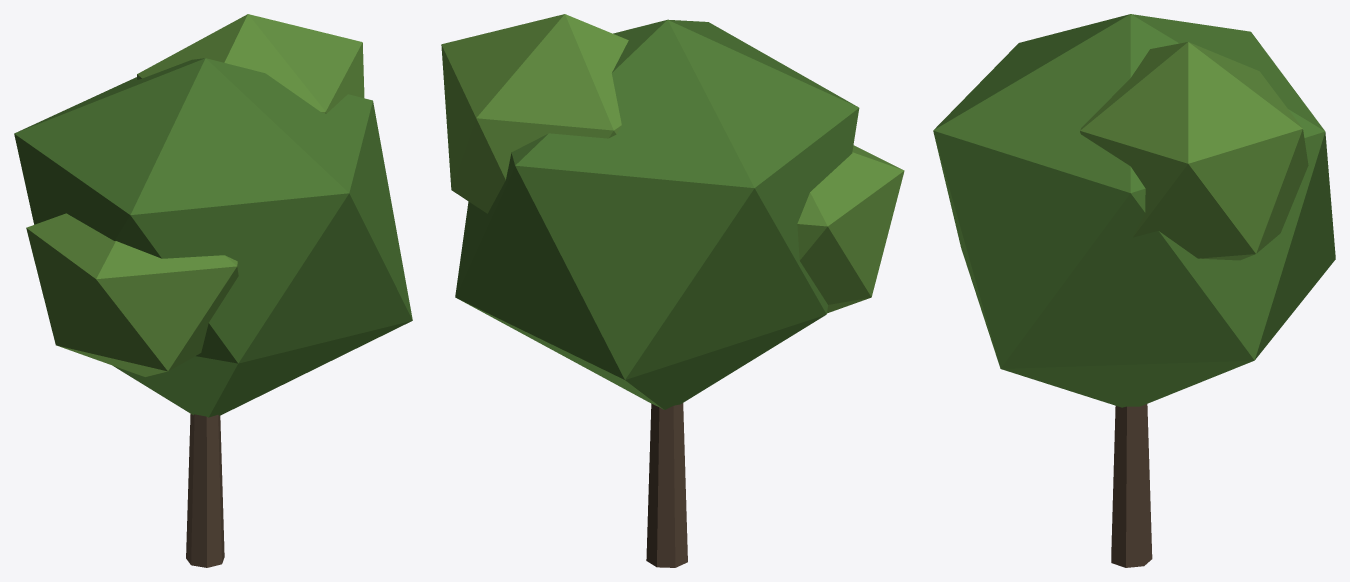
The model's file is linden.glb.
3 views of the same model, side by side, from view 1: azimuth 30°, elevation 25°; view 2: azimuth 150°, elevation 25°; view 3: azimuth 270°, elevation 25° (orthographic). The views are drawn at different scales.
Visible parts, largest first — view 1: linden; view 2: linden; view 3: linden.
Part boxes in pixels (left/top/right/bottom): linden: left=14, top=14, right=412, bottom=567; linden: left=441, top=14, right=904, bottom=567; linden: left=933, top=14, right=1335, bottom=567.
Size of the model in its own units: 6.16 by 8.49 by 5.59.
